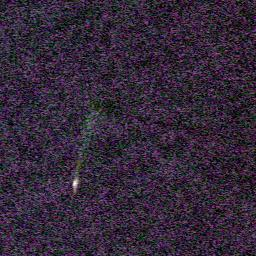Ship: (70, 170, 81, 192)
